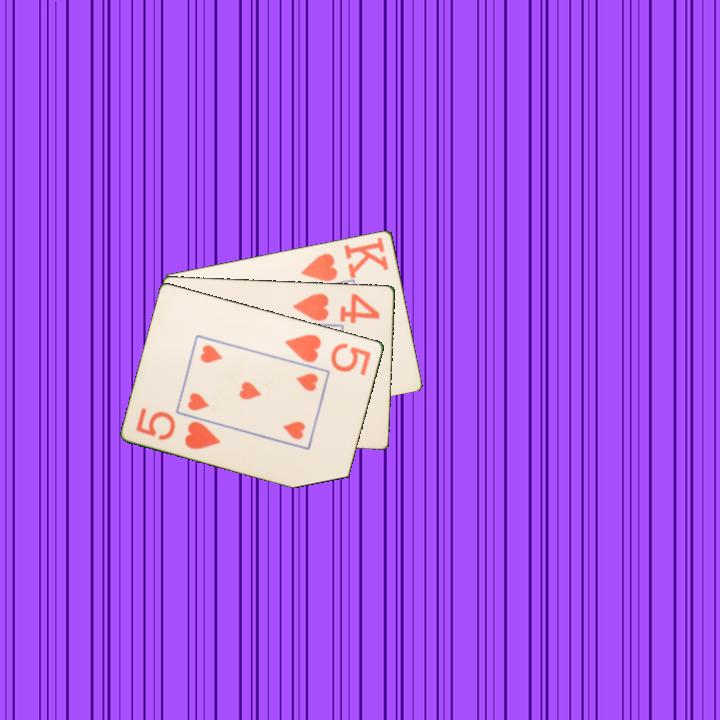4h: (290, 289, 383, 325)
5h: (281, 330, 374, 379), (133, 404, 224, 452)
Kh: (298, 233, 392, 284)
